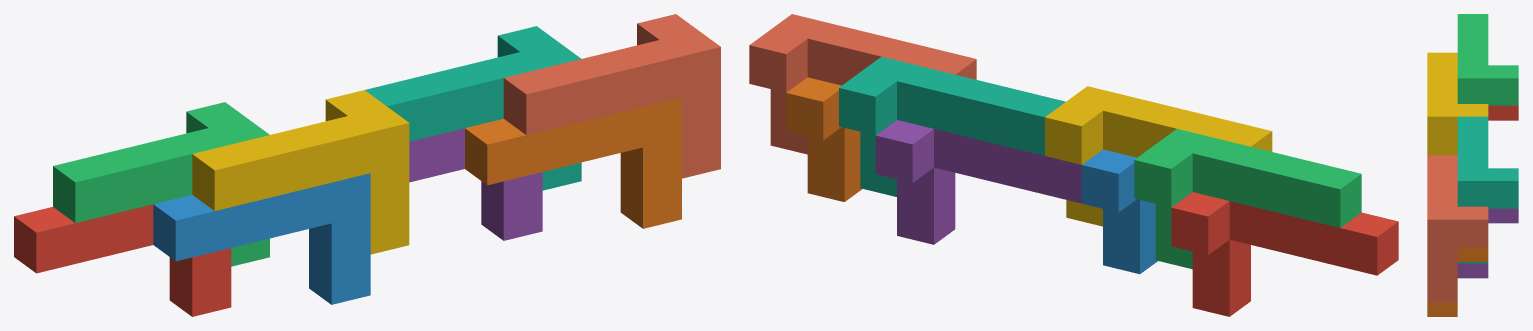
The model's file is tiling.obj.
3 views of the same model, side by side, from view 1: azimuth 30°, elevation 25°; view 2: azimuth 150°, elevation 25°; view 3: azimuth 270°, elevation 25° (orthographic). The views are drawn at different scales.
Visible parts, largest first — view 1: copy_1_domain_4, copy_1_domain_8, copy_1_domain_2, copy_1_domain_6, copy_1_domain_3, copy_1_domain_7, copy_1_domain_1, copy_1_domain_5; view 2: copy_1_domain_3, copy_1_domain_1, copy_1_domain_7, copy_1_domain_5, copy_1_domain_8, copy_1_domain_4, copy_1_domain_6, copy_1_domain_2; view 3: copy_1_domain_8, copy_1_domain_7, copy_1_domain_3, copy_1_domain_4, copy_1_domain_5, copy_1_domain_6, copy_1_domain_1.
Boxes of the visible parts, <box> form: copy_1_domain_4: <box>192,90,409,254</box>; copy_1_domain_8: <box>503,14,720,178</box>; copy_1_domain_2: <box>153,173,370,304</box>; copy_1_domain_6: <box>465,97,681,228</box>; copy_1_domain_3: <box>53,102,269,266</box>; copy_1_domain_7: <box>365,26,581,190</box>; copy_1_domain_1: <box>14,204,231,316</box>; copy_1_domain_5: <box>409,128,542,240</box>; copy_1_domain_3: <box>1134,129,1361,269</box>; copy_1_domain_1: <box>1171,192,1398,316</box>; copy_1_domain_7: <box>839,56,1065,196</box>; copy_1_domain_5: <box>875,120,1081,244</box>; copy_1_domain_8: <box>749,14,976,154</box>; copy_1_domain_4: <box>1045,86,1272,226</box>; copy_1_domain_6: <box>786,77,862,201</box>; copy_1_domain_2: <box>1081,149,1157,274</box>; copy_1_domain_8: <box>1427,155,1488,302</box>; copy_1_domain_7: <box>1457,116,1518,263</box>; copy_1_domain_3: <box>1457,14,1518,105</box>; copy_1_domain_4: <box>1427,52,1488,155</box>; copy_1_domain_5: <box>1457,208,1518,278</box>; copy_1_domain_6: <box>1427,247,1488,316</box>; copy_1_domain_1: <box>1488,105,1518,120</box>.
Size of the model in its own units: 17 by 4 by 3.
